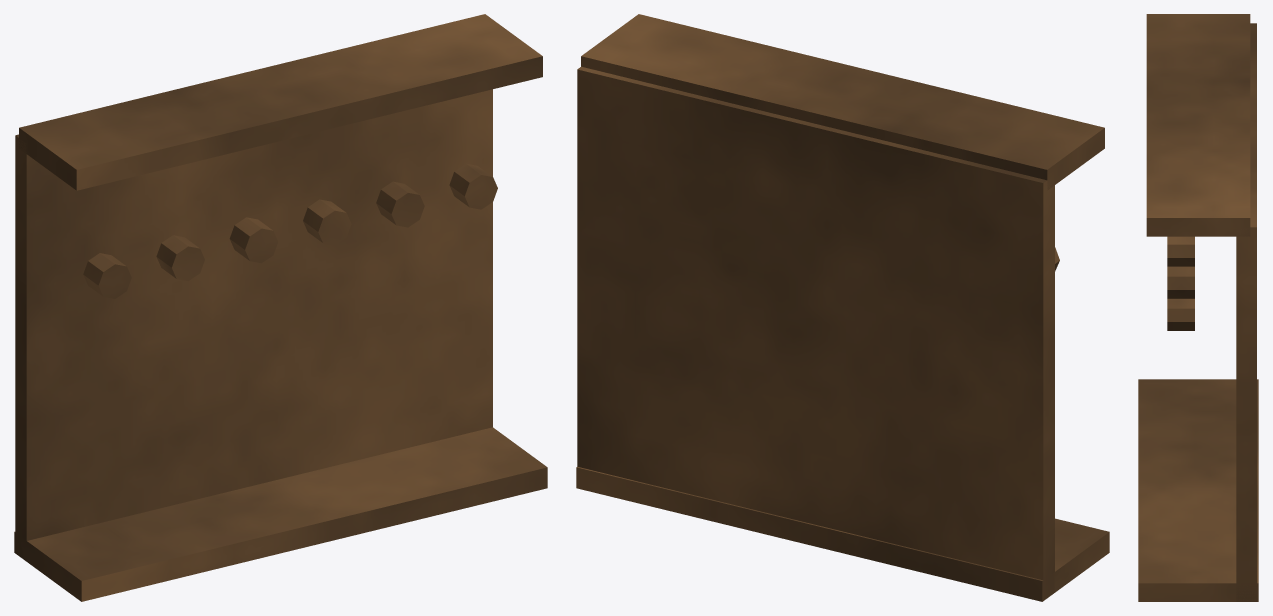
Rendered from weapon_rack.glb.
3 renders of one model, left to right at view 1: azimuth 30°, elevation 25°; view 2: azimuth 150°, elevation 25°; view 3: azimuth 270°, elevation 25°, orthographic. The views are drawn at different scales.
Visible parts, largest first — view 1: weapon_rack; view 2: weapon_rack; view 3: weapon_rack.
Boxes of the visible parts, x1,y1,x2,y2 form: weapon_rack: [14, 14, 547, 601]; weapon_rack: [576, 14, 1109, 601]; weapon_rack: [1138, 14, 1258, 601].
Bounding box in the file's own units: 1.4 × 1.23 × 0.35.
1 material, 1 textured.
